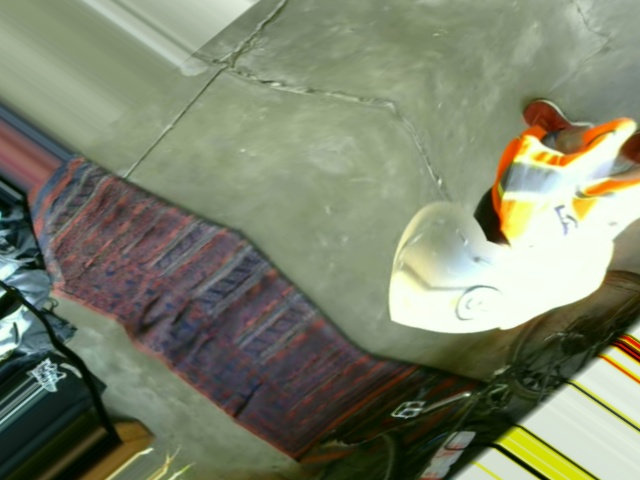three: (446, 281, 512, 326)
